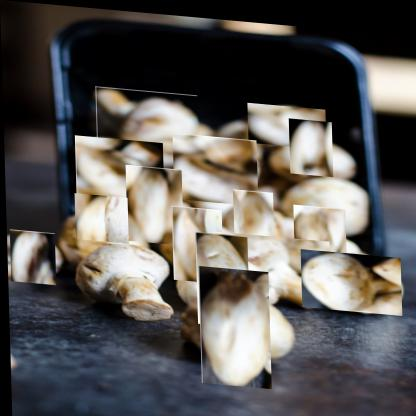mushroom: (186, 274, 282, 375), (212, 227, 331, 304), (72, 238, 172, 320), (95, 85, 199, 153), (299, 243, 402, 309), (170, 130, 259, 203), (74, 133, 164, 203), (277, 167, 369, 231), (184, 238, 259, 316), (65, 199, 139, 276), (119, 167, 189, 239), (285, 206, 354, 278), (278, 122, 345, 191), (164, 208, 229, 275), (246, 98, 327, 145), (226, 190, 280, 246), (7, 231, 58, 284)
